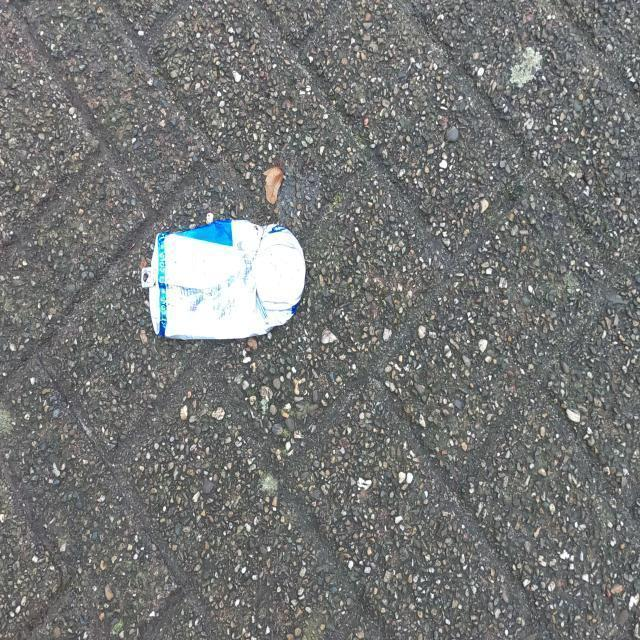Can-Metal: (138, 217, 308, 343)
